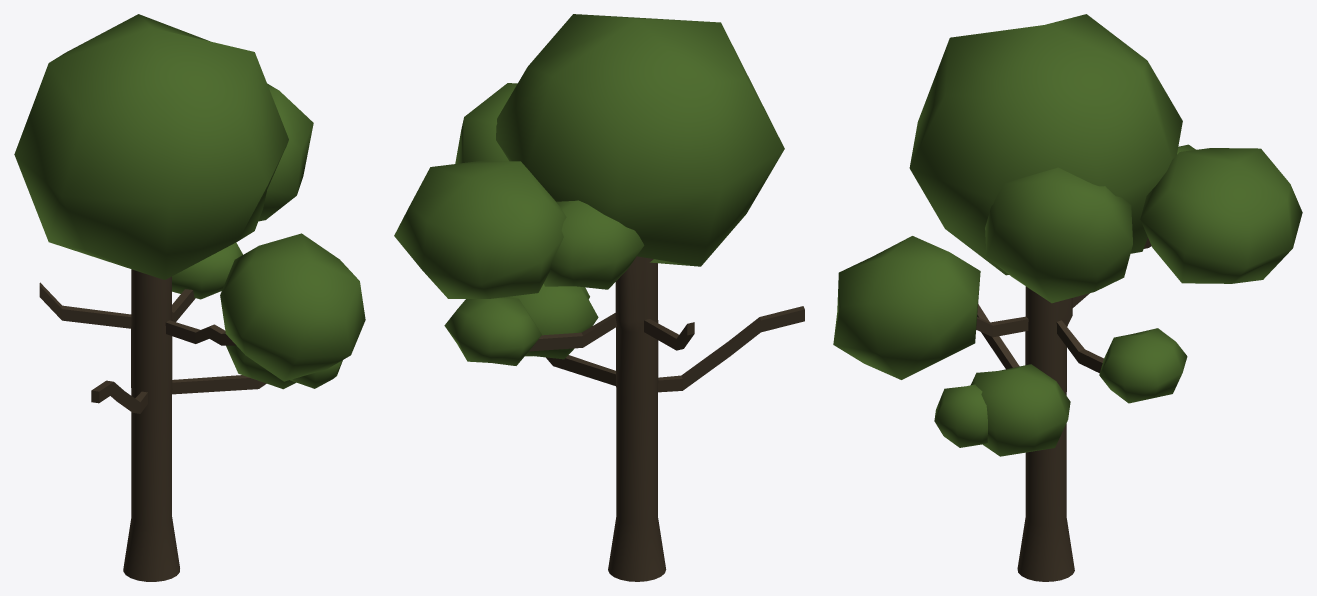
The model's file is tree1.fbx.
3 views of the same model, side by side, from view 1: azimuth 30°, elevation 25°; view 2: azimuth 150°, elevation 25°; view 3: azimuth 270°, elevation 25° (orthographic).
Parts seen in each view (by area): view 1: tree1; view 2: tree1; view 3: tree1.
Boxes of the visible parts, x1,y1,x2,y2 form: tree1: [14, 14, 365, 581]; tree1: [394, 14, 804, 581]; tree1: [833, 14, 1302, 581].
Size of the model in its own units: 1.95 by 3.68 by 2.87.
